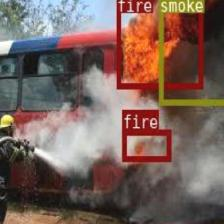fire: (116, 0, 202, 87), (121, 130, 171, 162)
smoke: (158, 0, 224, 104)
